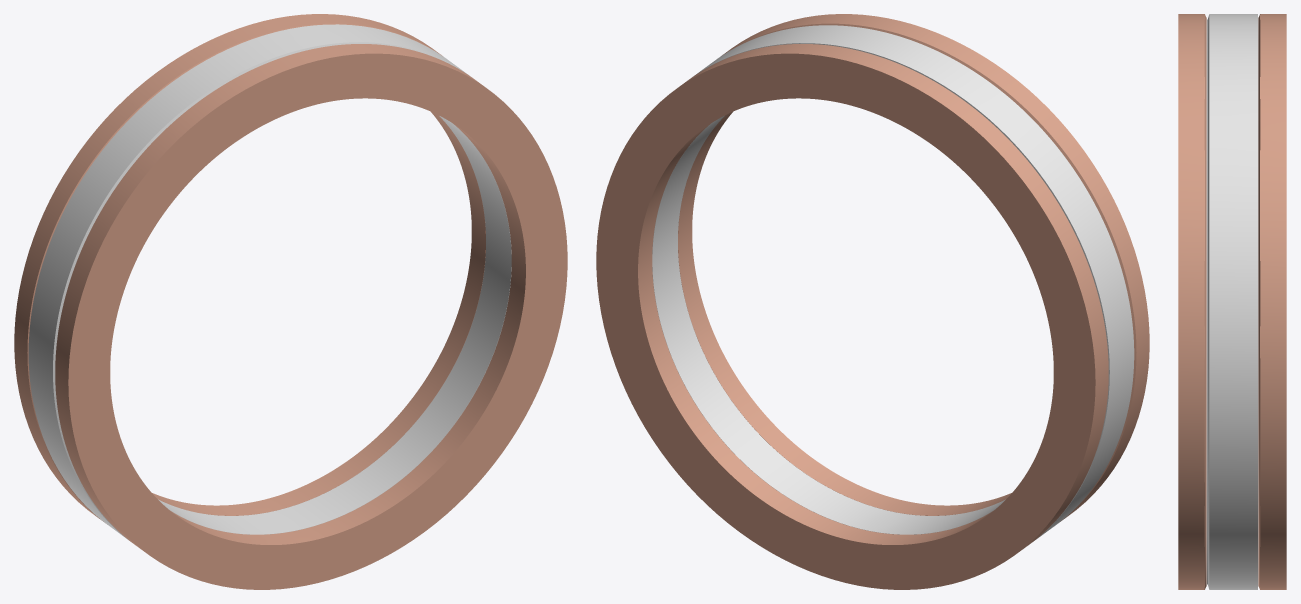
Rendered from RosannaNewRGwb.glb.
3 renders of one model, left to right at view 1: azimuth 30°, elevation 25°; view 2: azimuth 150°, elevation 25°; view 3: azimuth 270°, elevation 25°, orthographic.
Parts seen in each view (by area): view 1: new Rosanna RG for 3d model, new Rosanna PT for 3d model; view 2: new Rosanna RG for 3d model, new Rosanna PT for 3d model; view 3: new Rosanna RG for 3d model, new Rosanna PT for 3d model.
Boxes of the visible parts, <box> form: new Rosanna RG for 3d model: <box>14,14,567,589</box>; new Rosanna PT for 3d model: <box>28,24,511,540</box>; new Rosanna RG for 3d model: <box>596,14,1149,589</box>; new Rosanna PT for 3d model: <box>652,25,1134,540</box>; new Rosanna RG for 3d model: <box>1178,14,1286,589</box>; new Rosanna PT for 3d model: <box>1207,14,1257,589</box>.
Bounding box in the file's own units: 20.33 × 20.33 × 3.82.
